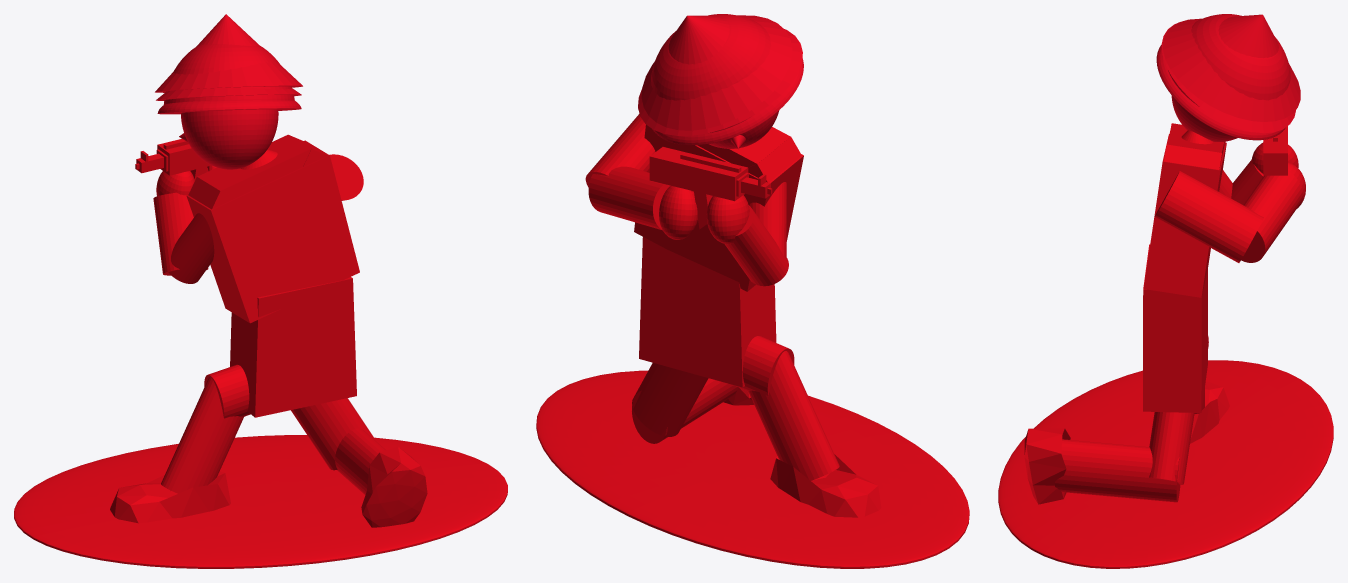
Rendered from toysoldier2(RED).fbx.
The picture shows the model from 3 angles, left to right: view 1: azimuth 30°, elevation 25°; view 2: azimuth 150°, elevation 25°; view 3: azimuth 270°, elevation 25°; orthographic projection. The views are drawn at different scales.
Parts seen in each view (by area): view 1: Cylinder, Cube, Cube.001, Cone.003, Cylinder.006, Icosphere.001, Icosphere.006, Cylinder.008, Cylinder.003, Cylinder.002, Cylinder.007, Cube.007 (+3 smaller); view 2: Cylinder, Cone.003, Cube.001, Cube, Cylinder.006, Cube.007, Icosphere.006, Cylinder.008, Cylinder.005, Cylinder.002, Cylinder.001, Cylinder.004 (+4 smaller); view 3: Cylinder, Cone.003, Cube.001, Cube, Cylinder.007, Cylinder.001, Cylinder.005, Icosphere.001, Cylinder.008, Icosphere.006, Cube.007, Cylinder.002 (+1 smaller).
Boxes of the visible parts, bbox=[...] form: Cylinder: bbox=[14, 435, 507, 568]; Cube: bbox=[186, 134, 359, 323]; Cube.001: bbox=[230, 277, 356, 417]; Cone.003: bbox=[155, 14, 302, 169]; Cylinder.006: bbox=[161, 377, 243, 493]; Icosphere.001: bbox=[361, 446, 427, 527]; Icosphere.006: bbox=[110, 471, 230, 523]; Cylinder.008: bbox=[291, 398, 374, 470]; Cylinder.003: bbox=[168, 213, 214, 283]; Cylinder.002: bbox=[153, 192, 208, 275]; Cylinder.007: bbox=[335, 428, 385, 494]; Cube.007: bbox=[135, 139, 212, 180]; Cylinder: bbox=[536, 370, 969, 568]; Cone.003: bbox=[638, 14, 803, 148]; Cube.001: bbox=[639, 237, 776, 387]; Cube: bbox=[634, 124, 803, 291]; Cylinder.006: bbox=[748, 351, 839, 480]; Cube.007: bbox=[649, 147, 772, 229]; Icosphere.006: bbox=[770, 454, 881, 517]; Cylinder.008: bbox=[632, 363, 708, 436]; Cylinder.005: bbox=[588, 166, 670, 230]; Cylinder.002: bbox=[724, 205, 788, 286]; Cylinder.001: bbox=[585, 114, 655, 187]; Cylinder.004: bbox=[734, 336, 794, 396]; Cylinder: bbox=[998, 360, 1333, 568]; Cone.003: bbox=[1156, 14, 1300, 141]; Cube.001: bbox=[1143, 244, 1207, 412]; Cube: bbox=[1143, 123, 1226, 297]; Cylinder.007: bbox=[1055, 439, 1180, 502]; Cylinder.001: bbox=[1155, 171, 1263, 262]; Cylinder.005: bbox=[1241, 171, 1303, 262]; Icosphere.001: bbox=[1024, 428, 1070, 504]; Cylinder.008: bbox=[1149, 412, 1194, 484]; Icosphere.006: bbox=[1190, 381, 1229, 443]; Cube.007: bbox=[1263, 126, 1287, 175]; Cylinder.002: bbox=[1231, 160, 1263, 204].
Bounding box in the file's own units: 395 × 413 × 271.
